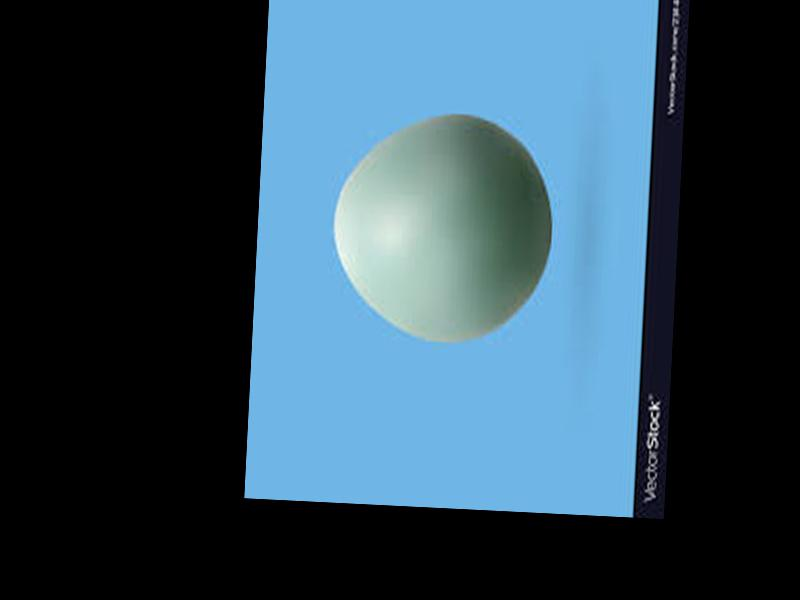Eggs: (328, 105, 556, 346)
